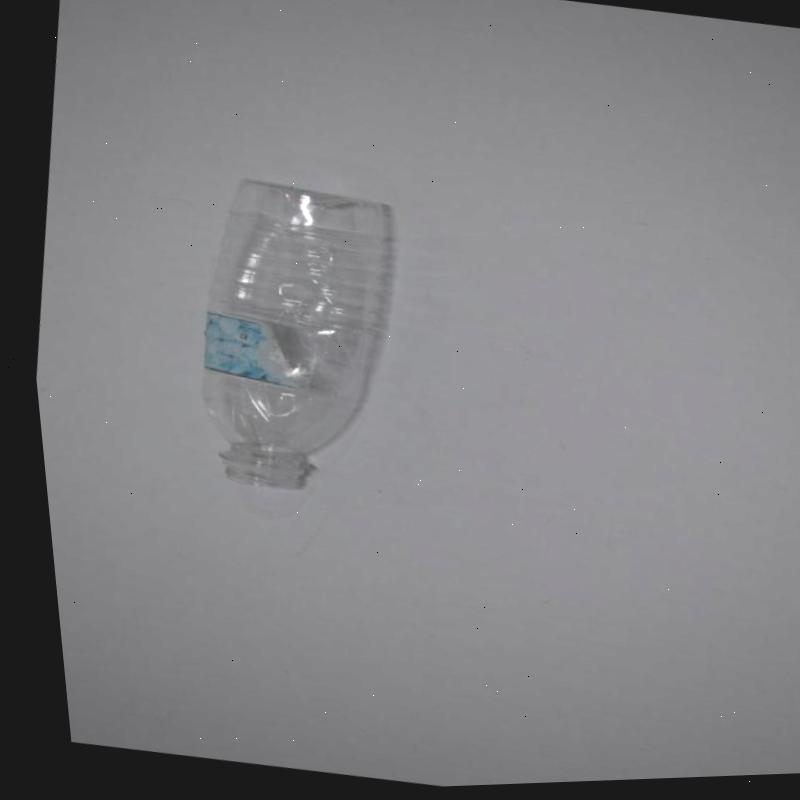botella: (155, 167, 416, 509)
